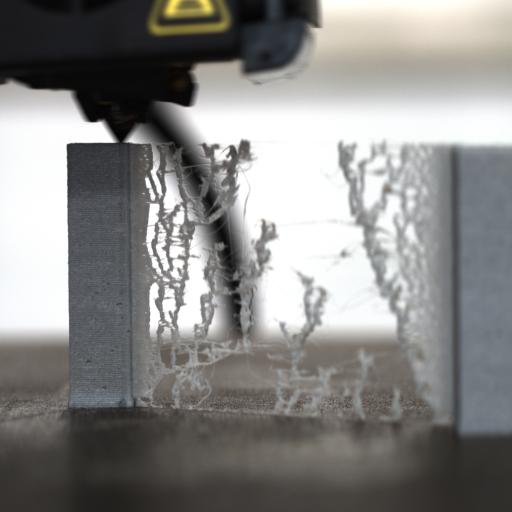stringing: (137, 131, 425, 414)
